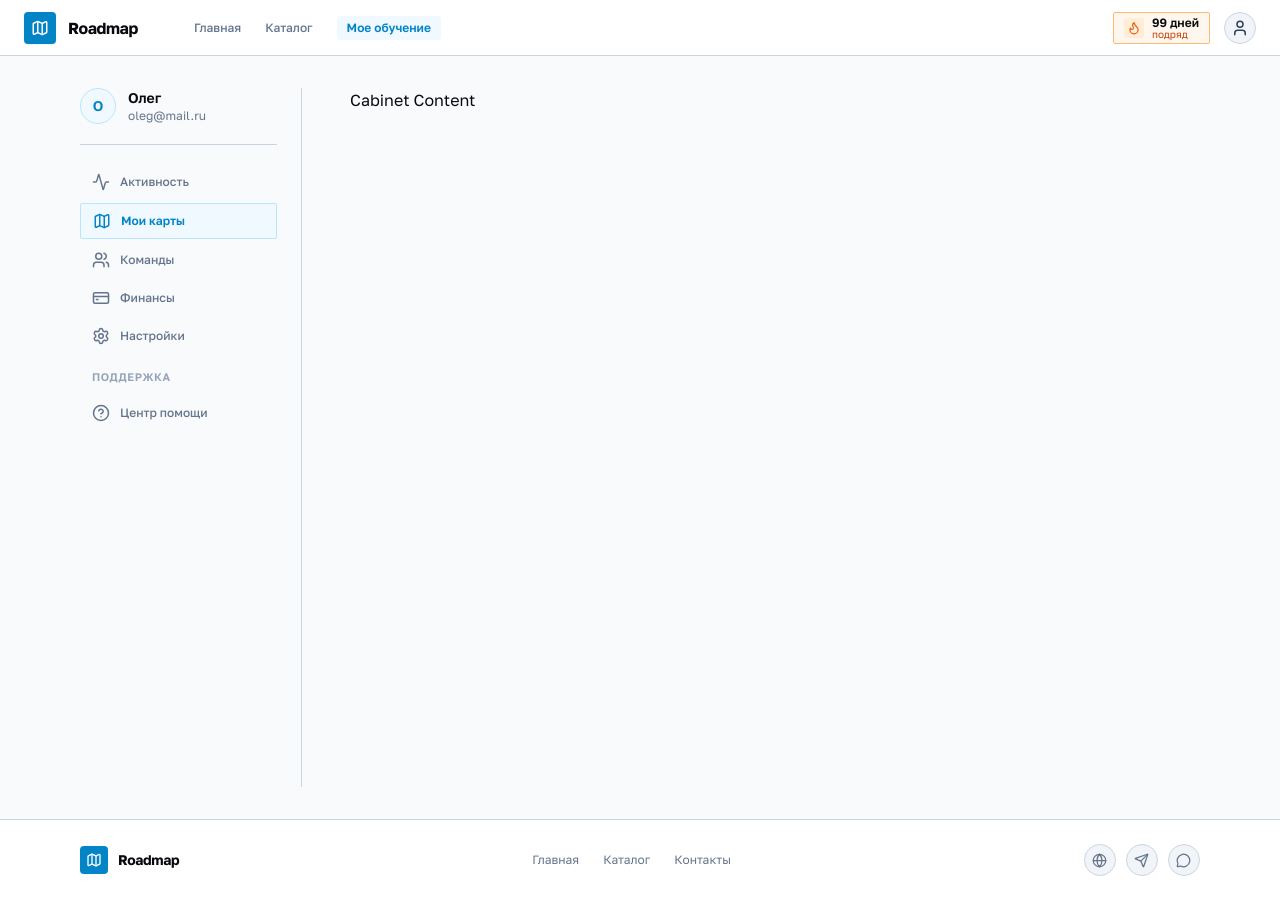
Test case: CabinetLayout › opens stub modal when clicking stub nav items
Click the button "Команды". click: (178, 260)
box: left=80, top=243, right=277, bottom=277
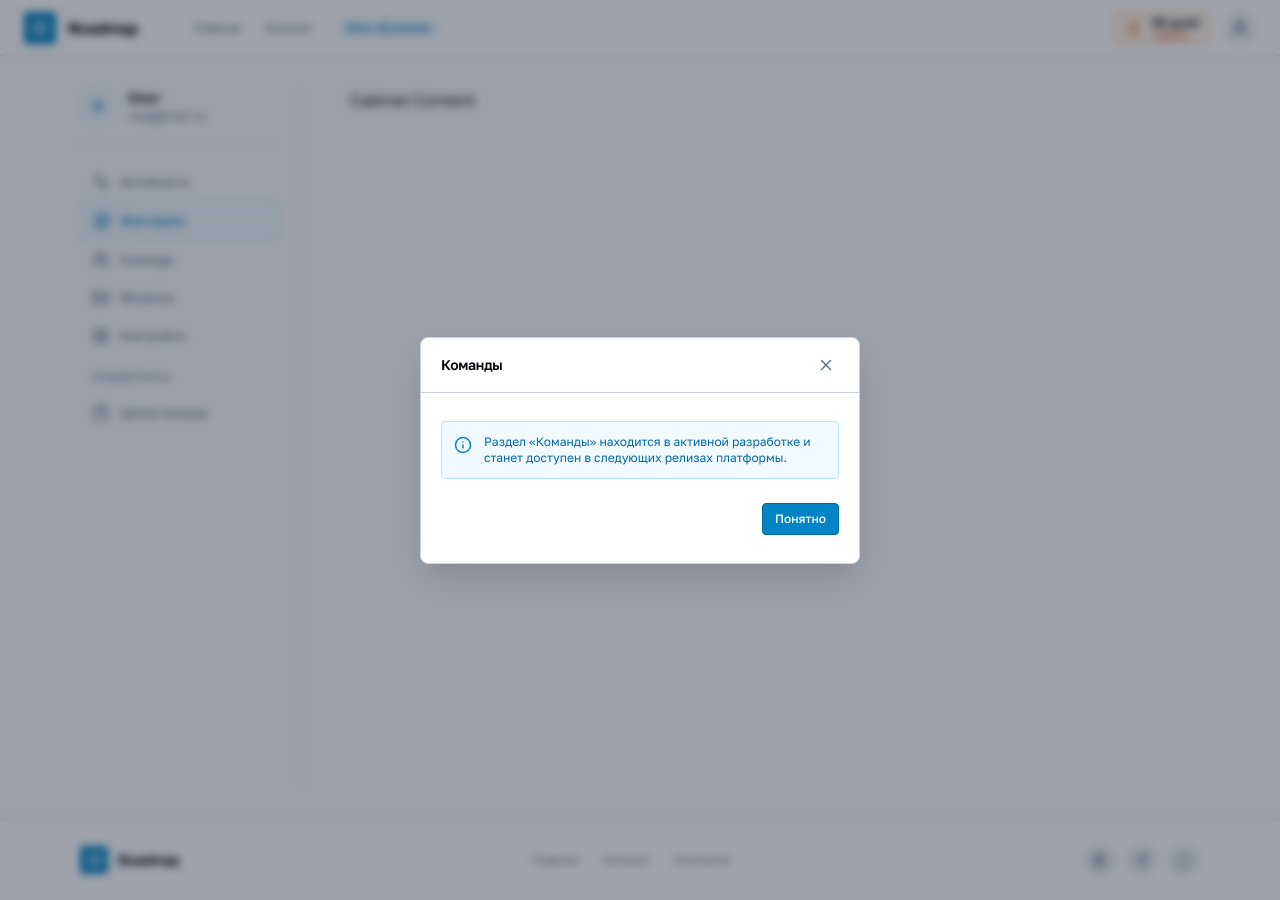
Now the text "Раздел «Команды» находится в активной разработке" is shown, box left=484, top=434, right=826, bottom=466
